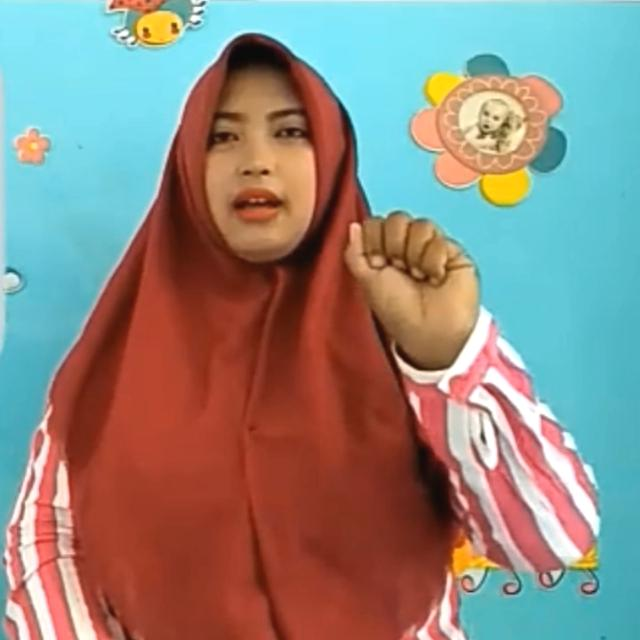A: (337, 206, 485, 342)
